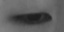LeftEyeFatigue: (4, 8, 64, 30)
